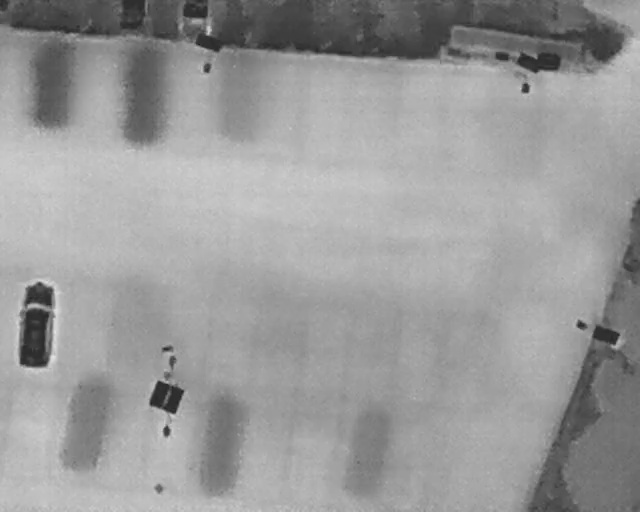Car: (14, 278, 57, 371), (180, 0, 213, 39), (117, 0, 148, 30)
